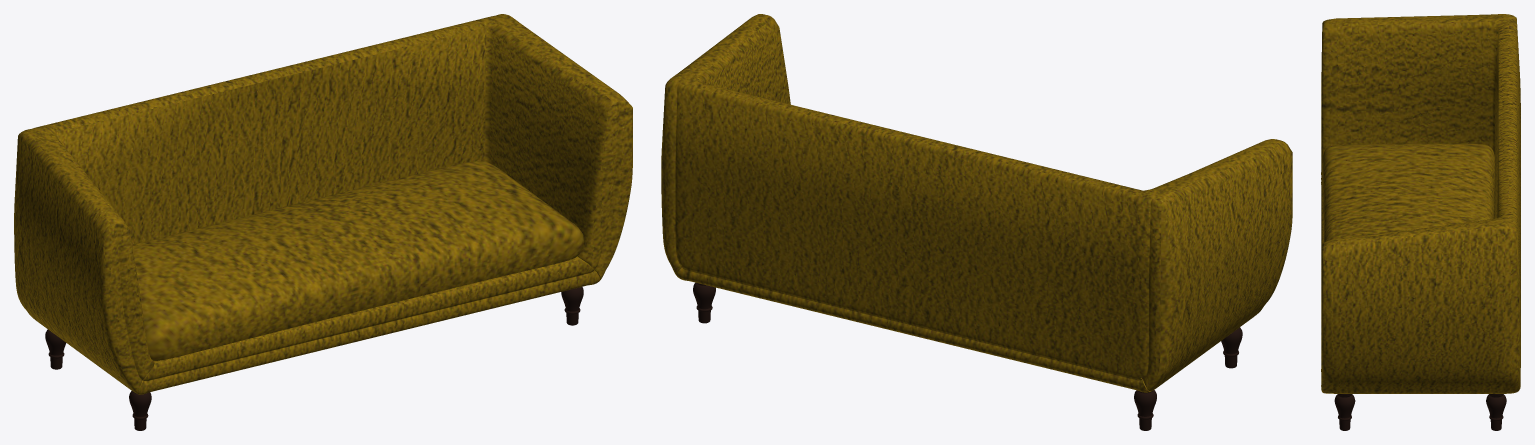
3 renders of one model, left to right at view 1: azimuth 30°, elevation 25°; view 2: azimuth 150°, elevation 25°; view 3: azimuth 270°, elevation 25°, orthographic. The views are drawn at different scales.
Parts seen in each view (by area): view 1: couch, seat, Legs_02_geo; view 2: couch, Legs_02_geo; view 3: couch, seat, Legs_02_geo.
Boxes of the visible parts, x1,y1,x2,y2 form: couch: (14, 14, 632, 394); seat: (132, 161, 583, 360); Legs_02_geo: (45, 287, 583, 430); couch: (661, 14, 1292, 392); Legs_02_geo: (693, 282, 1242, 430); couch: (1321, 14, 1520, 393); seat: (1322, 143, 1494, 242); Legs_02_geo: (1334, 394, 1506, 430).
Size of the model in its own units: 2.09 by 0.8926 by 0.7535.
3 materials, 2 textured.
